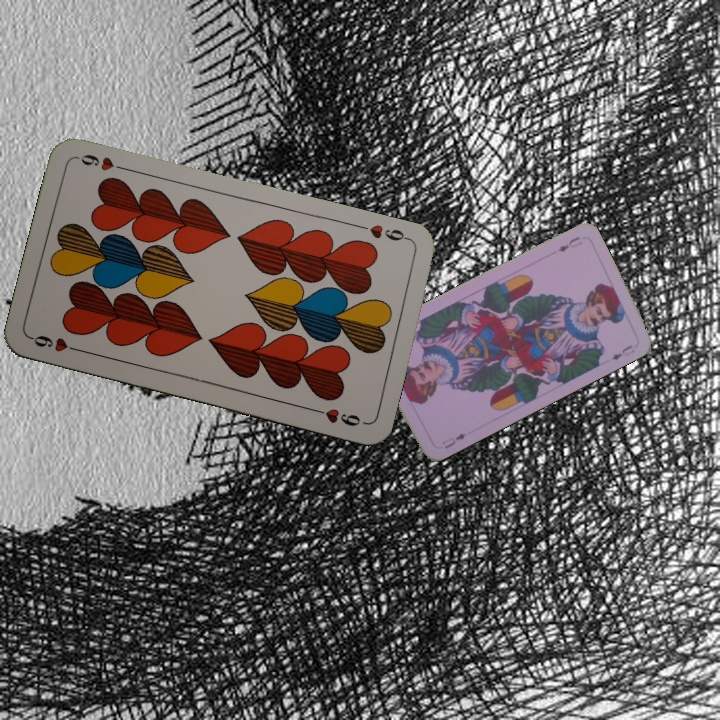EU: (440, 429, 469, 451), (554, 233, 584, 254)
H9: (27, 331, 86, 355), (355, 220, 414, 244)
